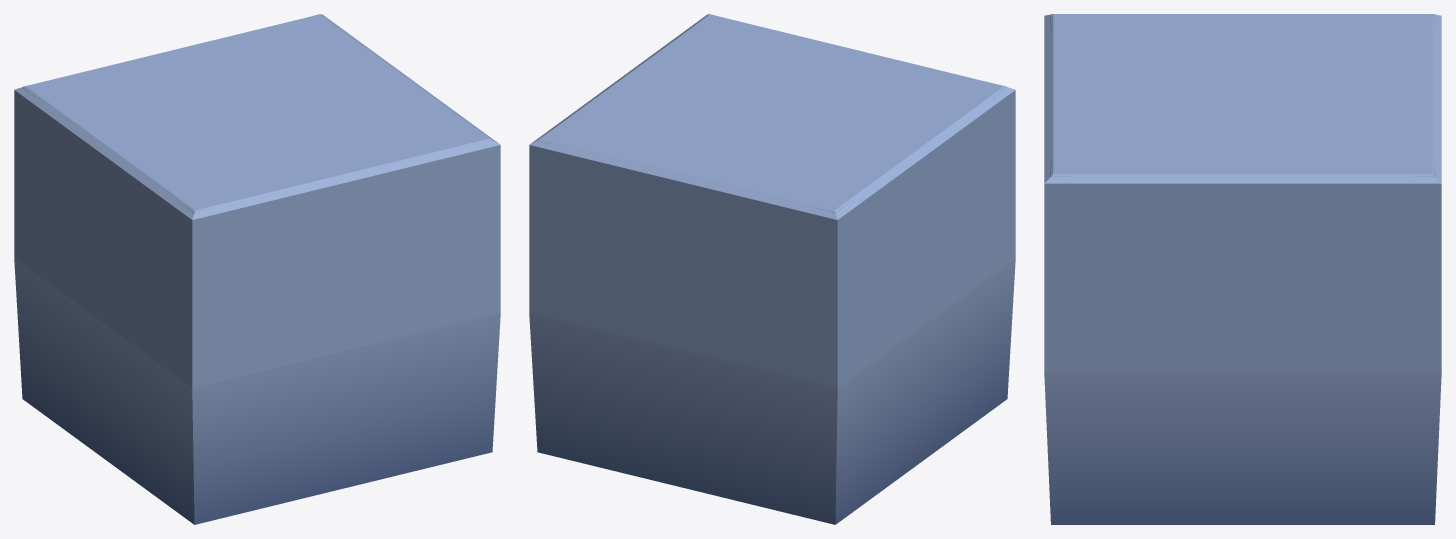
Rendered from SpoilsSmall.gltf.
The picture shows the model from 3 angles, left to right: view 1: azimuth 30°, elevation 25°; view 2: azimuth 150°, elevation 25°; view 3: azimuth 270°, elevation 25°; orthographic projection. The views are drawn at different scales.
Parts seen in each view (by area): view 1: SpoilsSmallMesh; view 2: SpoilsSmallMesh; view 3: SpoilsSmallMesh.
Part boxes in pixels (x1,y1,x2,y2): SpoilsSmallMesh: [14, 14, 500, 524]; SpoilsSmallMesh: [529, 14, 1015, 524]; SpoilsSmallMesh: [1044, 14, 1441, 524].
Size of the model in its own units: 1.6 by 1.55 by 1.6.
